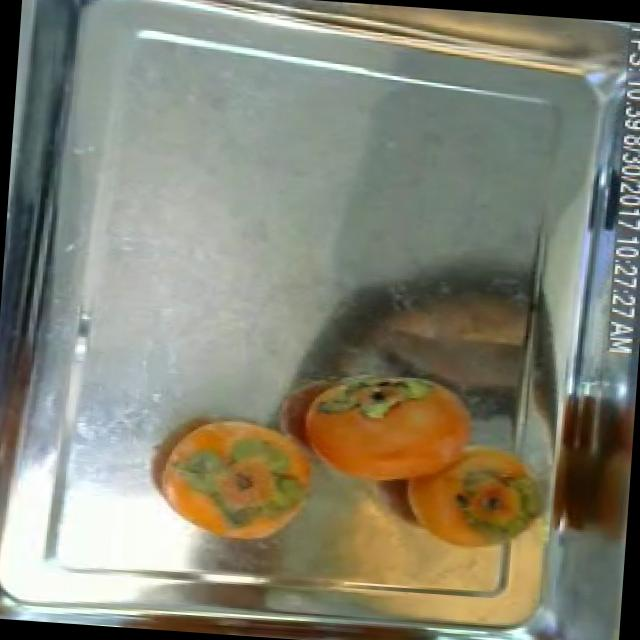Fruit: (333, 253, 558, 422), (138, 401, 341, 554)
